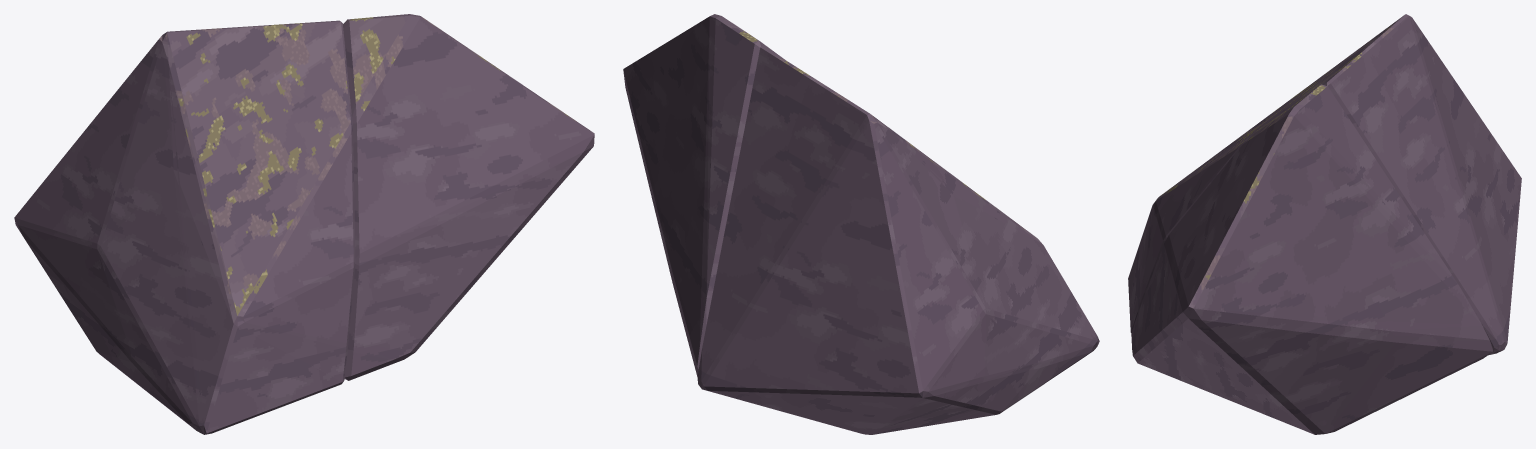
Rendered from P05_Chunk_A.fbx.
The picture shows the model from 3 angles, left to right: view 1: azimuth 30°, elevation 25°; view 2: azimuth 150°, elevation 25°; view 3: azimuth 270°, elevation 25°; orthographic projection. The views are drawn at different scales.
Parts seen in each view (by area): view 1: P05A_0, P05A_1; view 2: P05A_0, P05A_1; view 3: P05A_1, P05A_0.
Part boxes in pixels (left/top/right/bottom): P05A_0: left=14, top=20, right=355, bottom=434; P05A_1: left=343, top=14, right=594, bottom=380; P05A_0: left=697, top=45, right=1099, bottom=434; P05A_1: left=623, top=14, right=784, bottom=376; P05A_1: left=1131, top=84, right=1492, bottom=434; P05A_0: left=1128, top=14, right=1521, bottom=355.
Bounding box in the file's own units: 0.5134 × 0.3393 × 0.3725.
